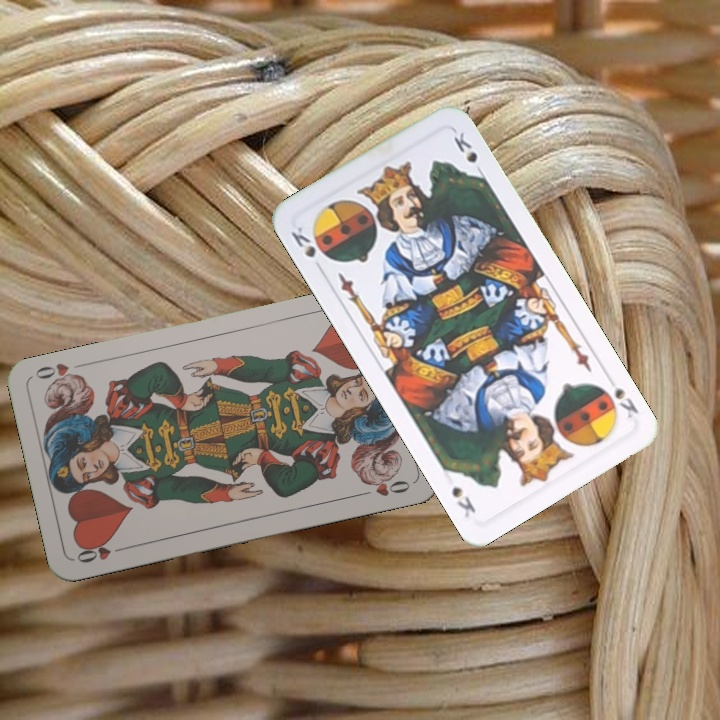HO: (72, 537, 130, 566)
SK: (287, 222, 319, 261), (610, 381, 641, 421)
